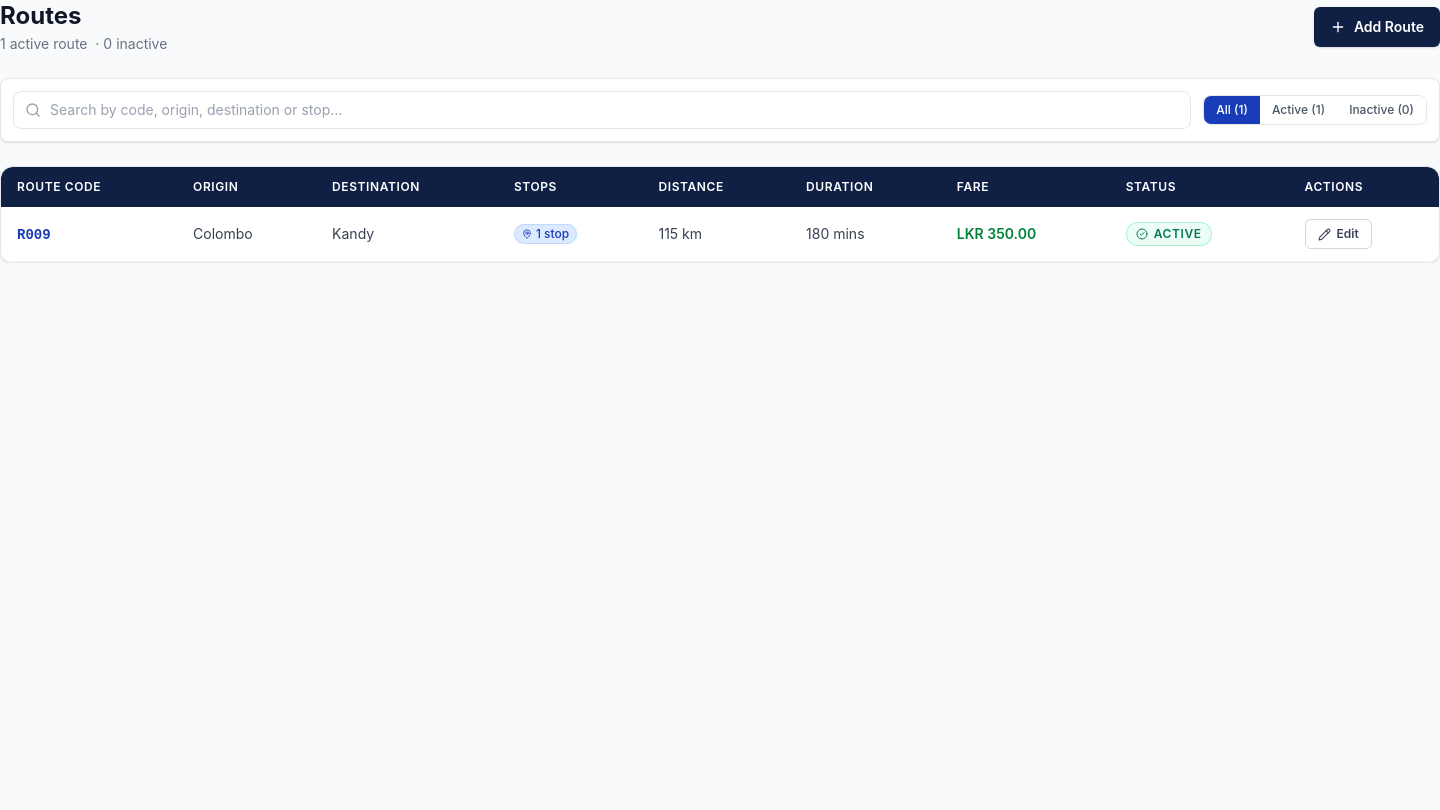
it: vehicle management form › prefills and updates a route using the existing route modal
Click the button with aria-label "Edit Route R009" at (1338, 234), box [1304, 219, 1372, 249]
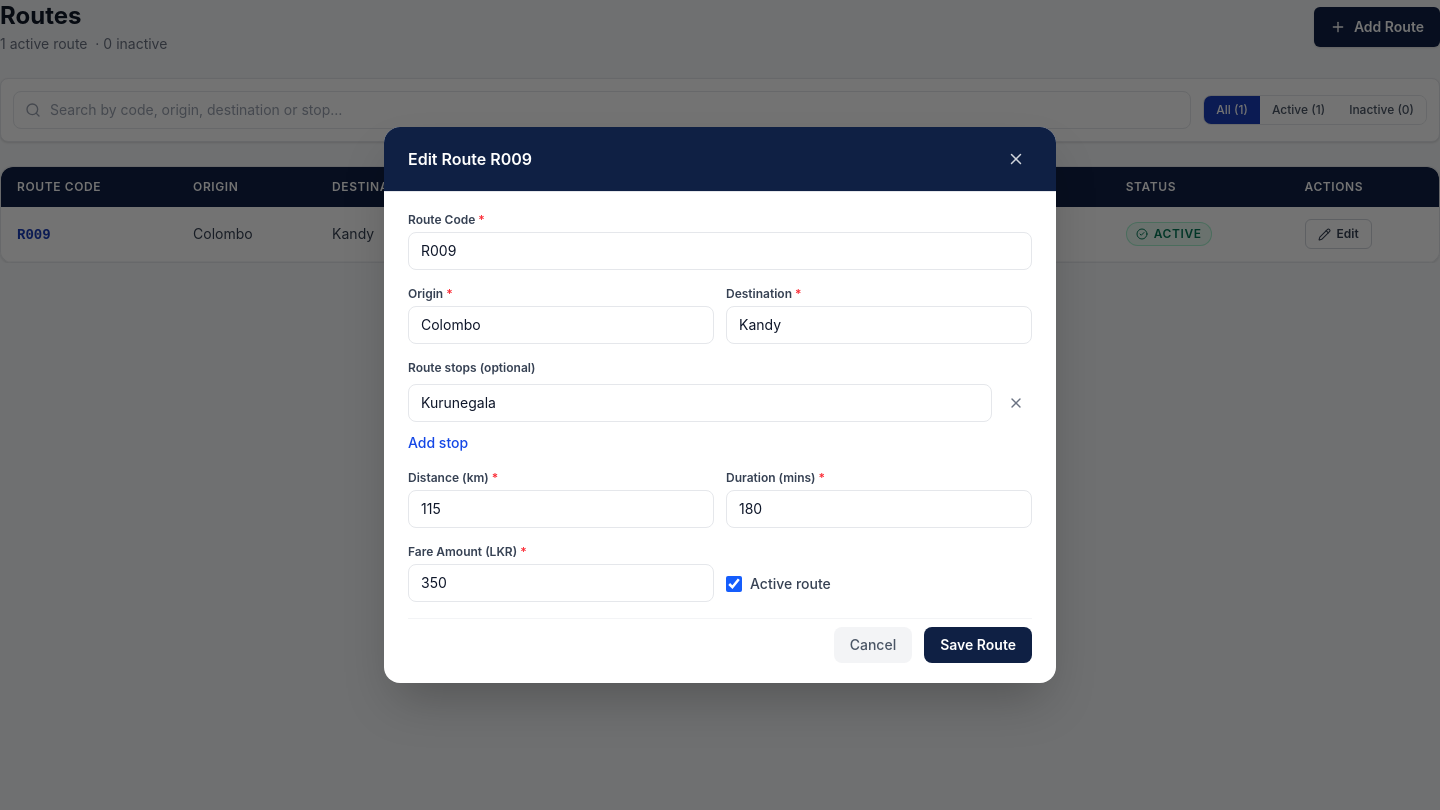
Check: the 1st field with placeholder "e.g. R009" holds "R009", box [408, 232, 1032, 270]
Replace the text in the 2nd field with placeholder "e.g. Colombo Fort" with "Negombo" at (561, 325), box [408, 306, 714, 344]
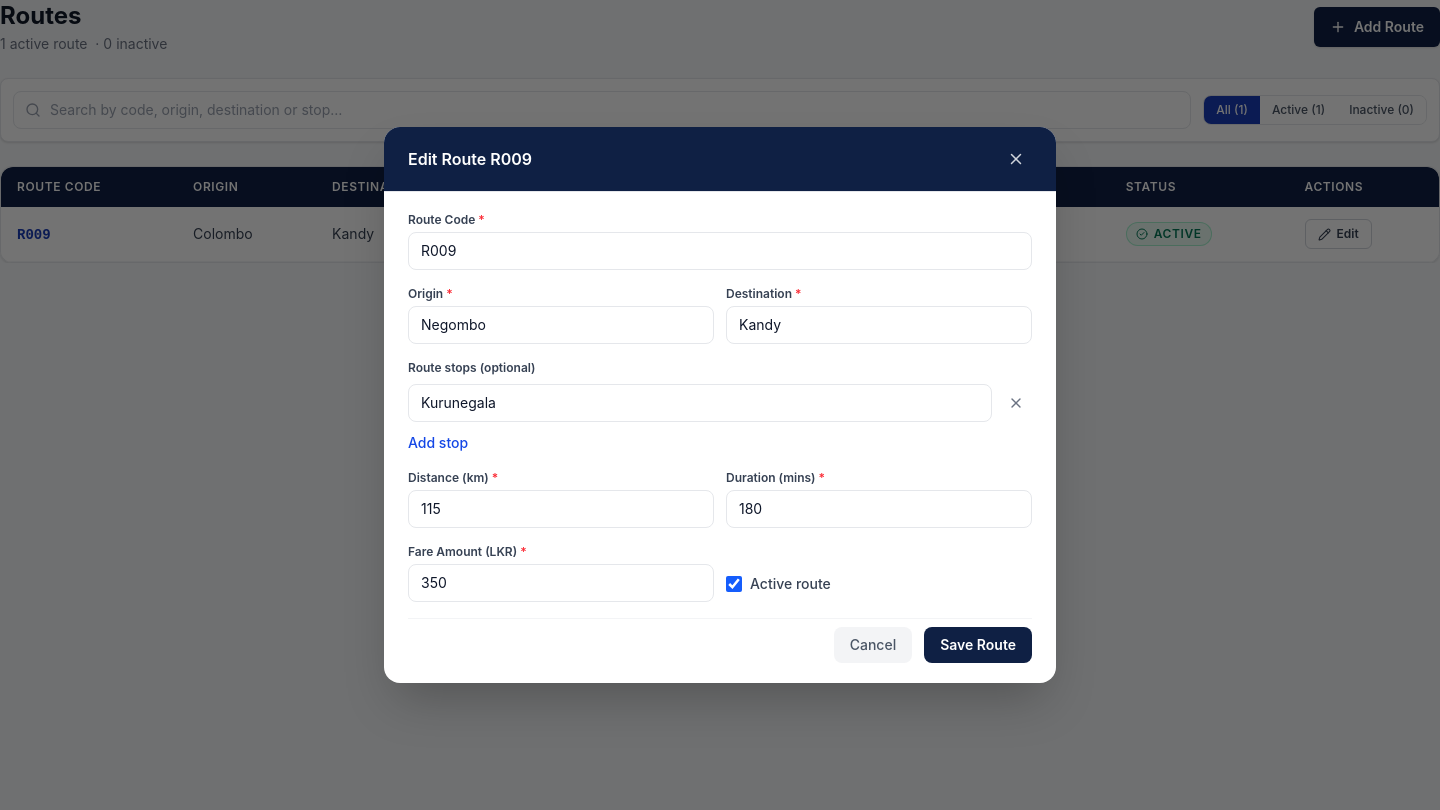
Click the button "Save Route" at (978, 645), box [924, 627, 1032, 663]
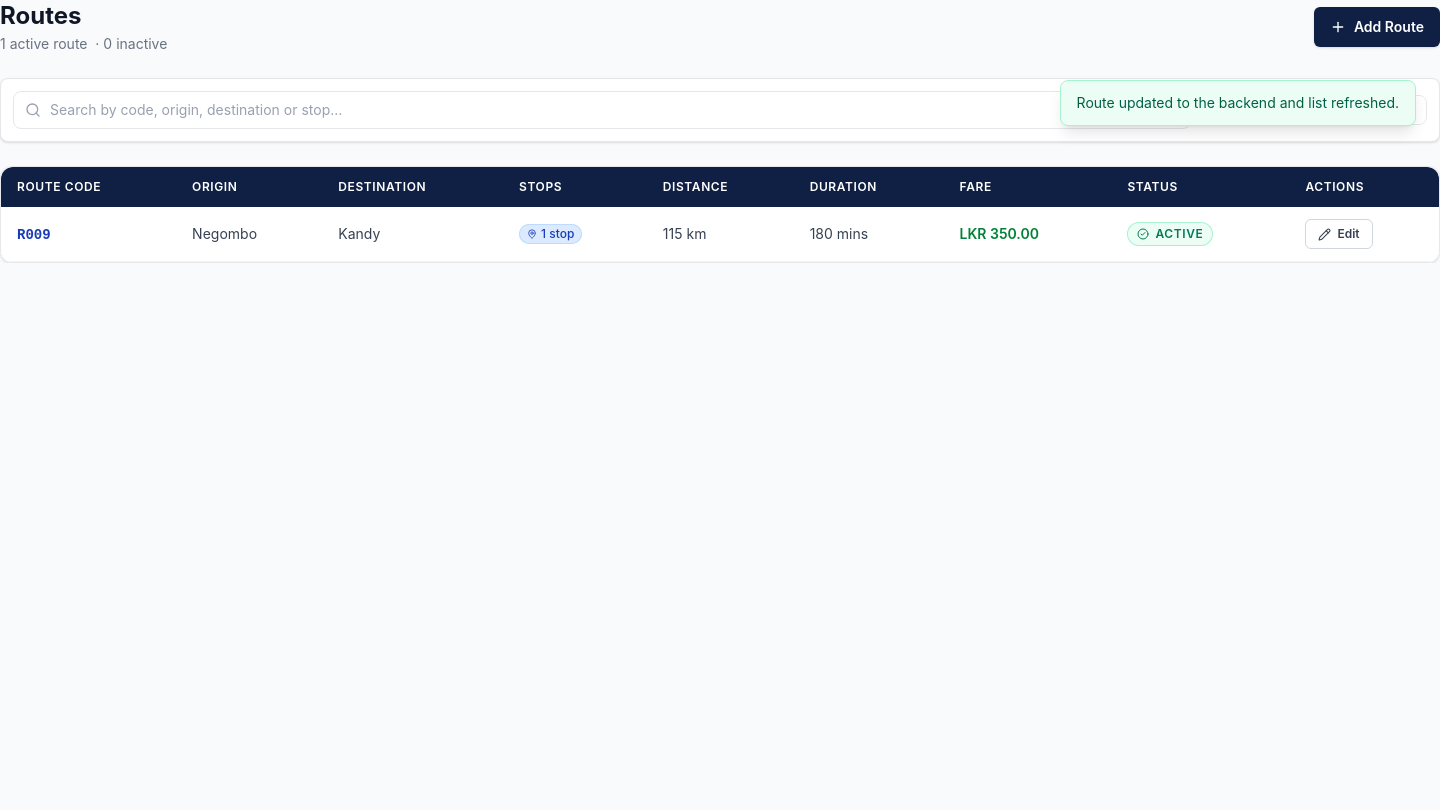
Check: the text "Route updated to the backend and list refreshed." is shown, box [1060, 80, 1416, 126]
